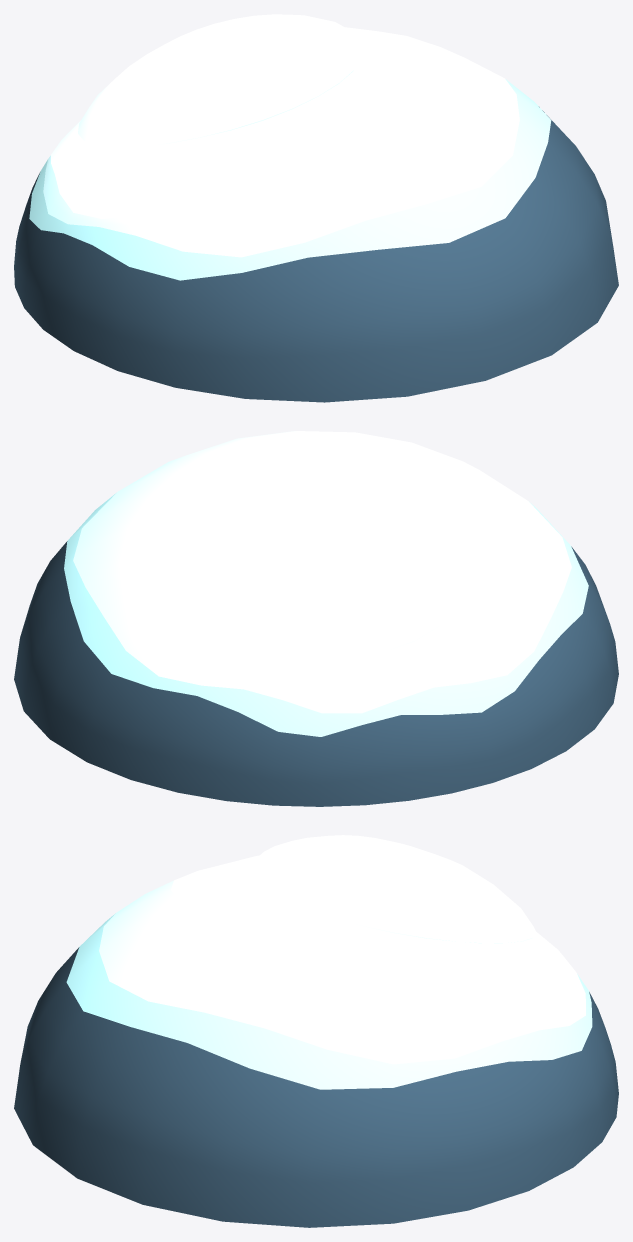
File: shot_nort_pearl.glb
The picture shows the model from 3 angles, top to bottom: view 1: azimuth 30°, elevation 25°; view 2: azimuth 150°, elevation 25°; view 3: azimuth 270°, elevation 25°; orthographic projection.
Visible parts, largest first — view 1: shot_nort_pearl_body, shot_nort_pearl_core; view 2: shot_nort_pearl_body, shot_nort_pearl_core; view 3: shot_nort_pearl_body, shot_nort_pearl_core.
Part boxes in pixels (x1,y1,x2,y2): shot_nort_pearl_body: [14, 27, 618, 402]; shot_nort_pearl_core: [78, 14, 363, 147]; shot_nort_pearl_body: [14, 431, 618, 806]; shot_nort_pearl_core: [192, 445, 477, 655]; shot_nort_pearl_body: [14, 855, 618, 1227]; shot_nort_pearl_core: [250, 835, 536, 943].
Bounding box in the file's own units: 10.98 × 4.62 × 10.98.
